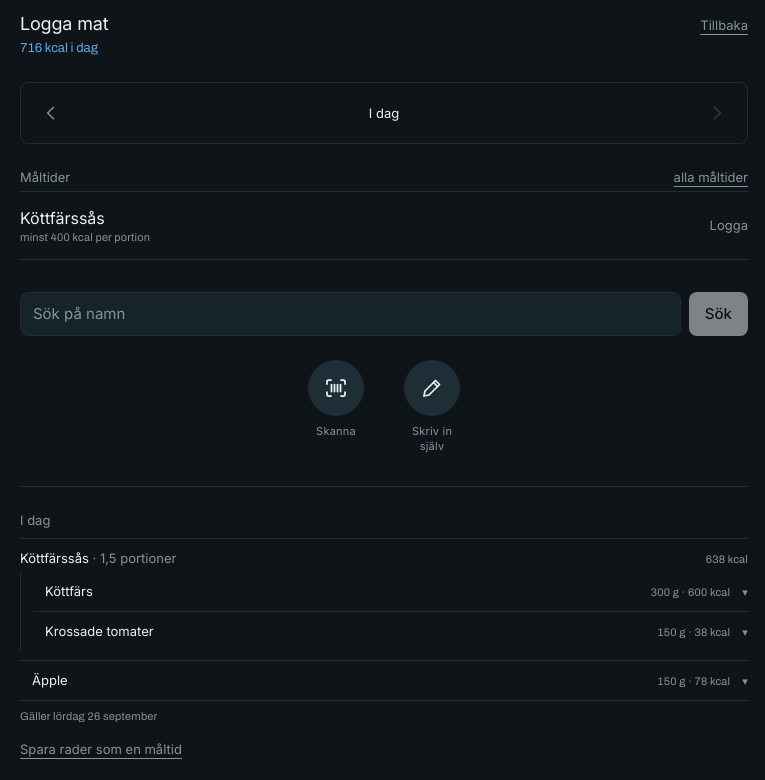
Scenario: logging a meal from Mat (D189) › shows the most used meals with a portion field, and the day reads the meal above its rows
Check: the element with test id "logged-meal-heading" reads "Köttfärssås · 1,5 portioner", box [20, 549, 176, 568]
Check: the list item with test id "logged-meal" shows "Köttfärs", box [45, 582, 639, 601]
What coordinates should you click on to do the following:
click the button "Köttfärssås minst 400 kcal per portion Logga"
I would click on:
 (62, 218)
Its box is [20, 196, 748, 255].
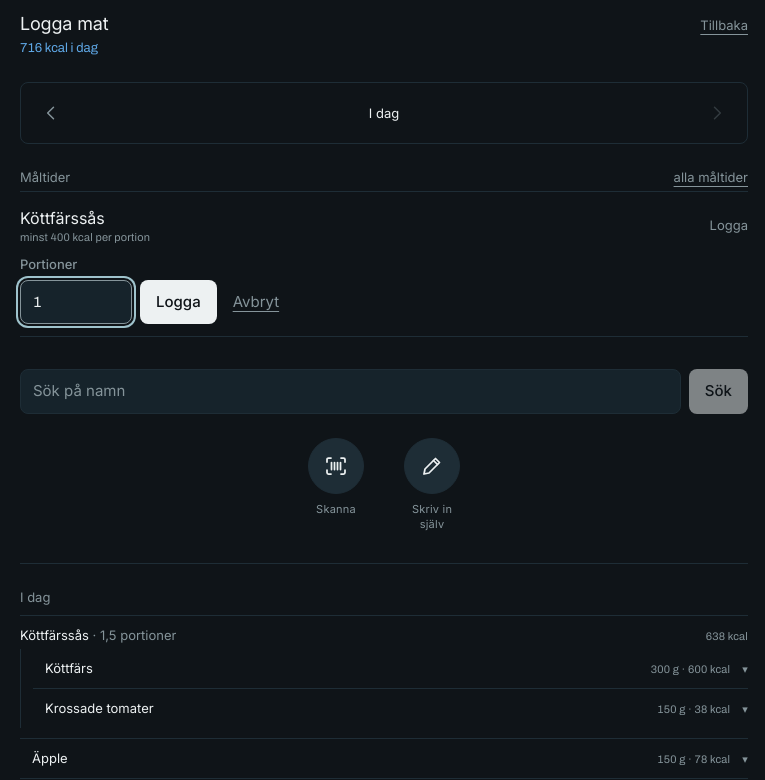
Check: the field labelled "Portioner" holds "1", box [20, 280, 132, 324]
